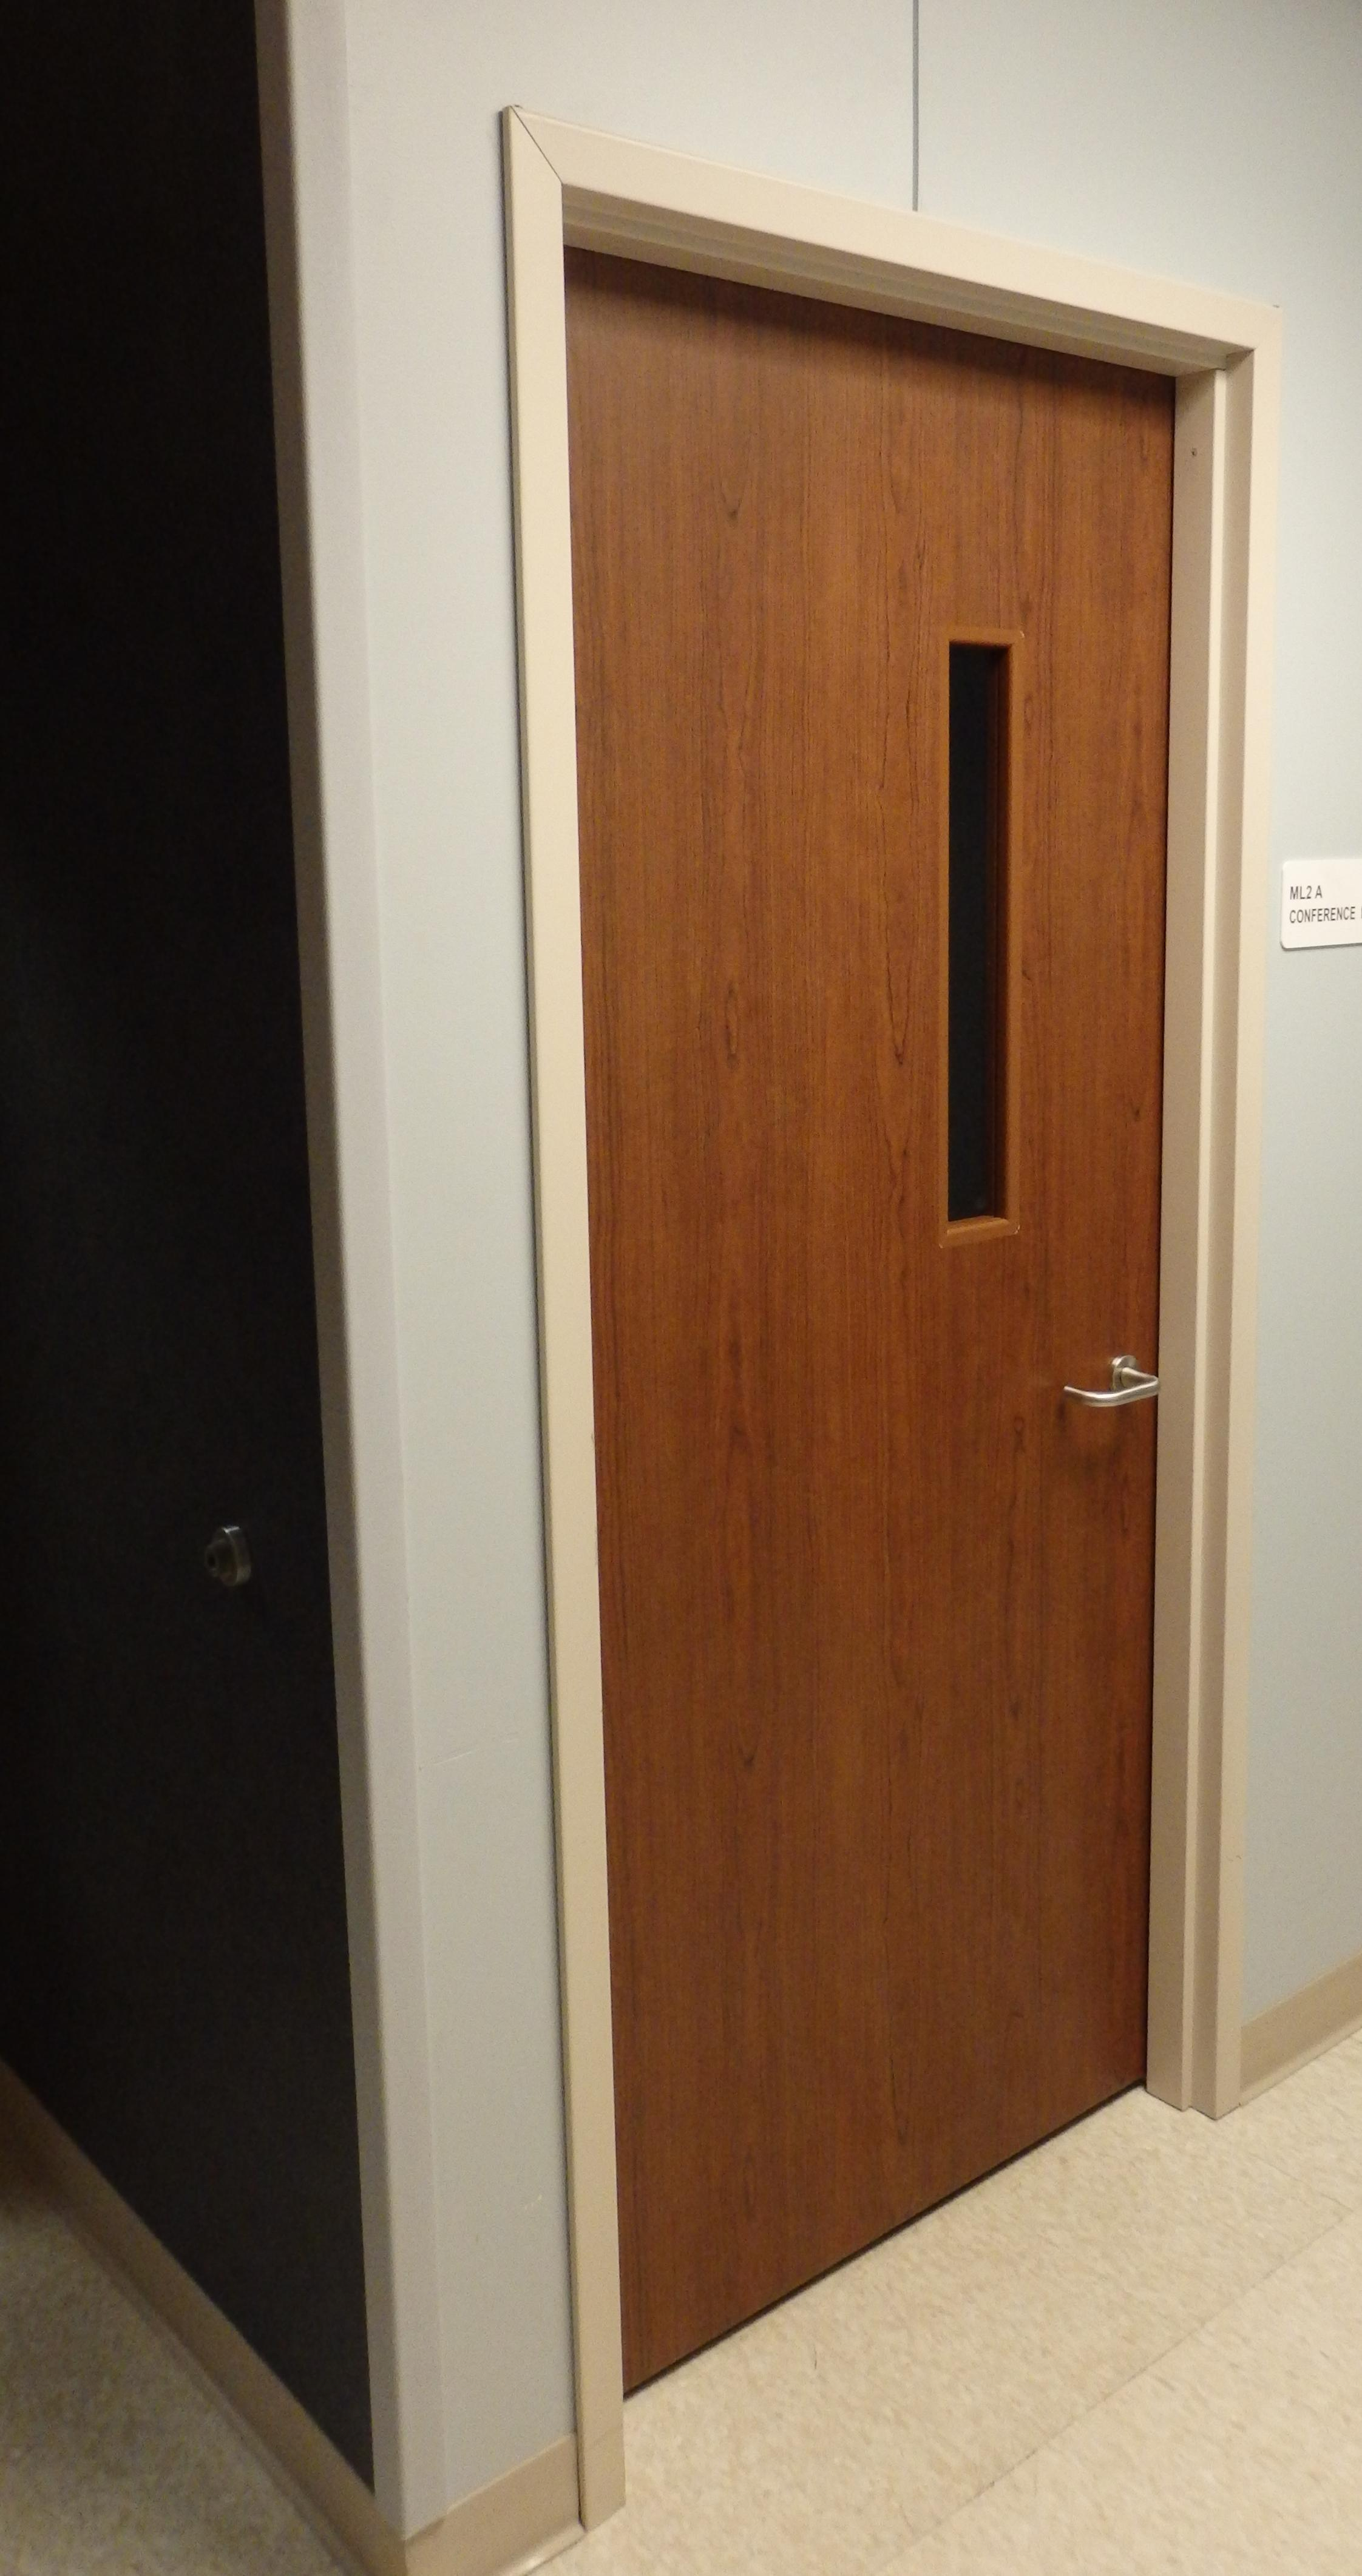door: (503, 114, 1289, 2528)
